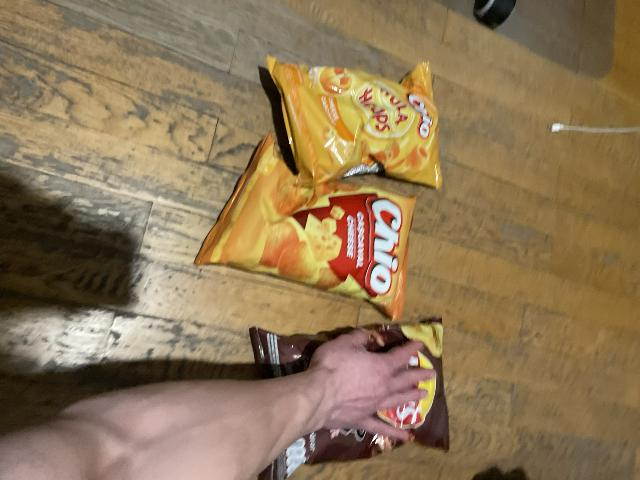Chio Cascaval 125g: (193, 136, 413, 314)
Chio Hula Hoops Cheese 70g: (276, 55, 443, 192)
Lays Beef Grilled Ribs 125g: (253, 316, 444, 469)
